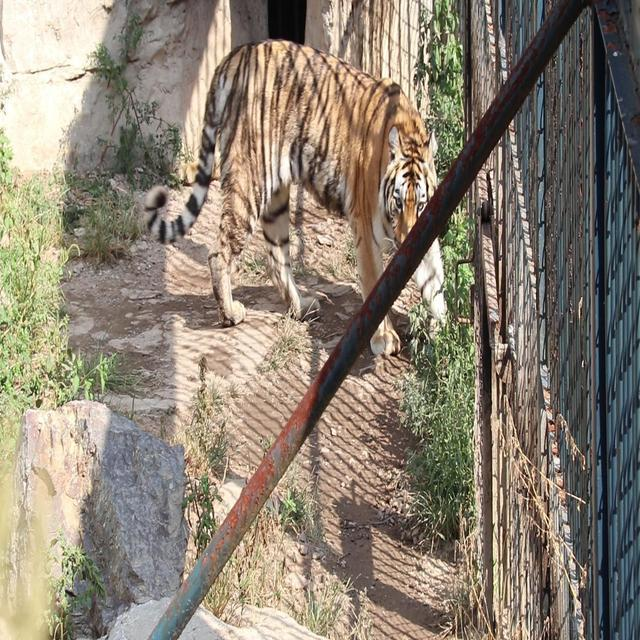tiger: (143, 37, 447, 358)
